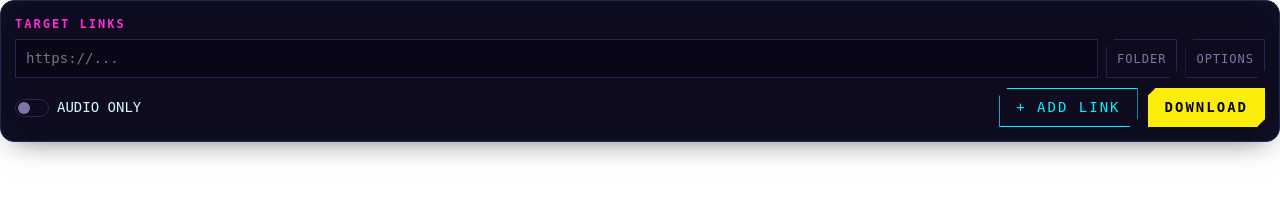
Scenario: UrlInput submit › keeps only the rejected links, with their error message, and clears the accepted ones
The image size is (1280, 224).
Click the button "+ ADD LINK" at [1068, 108], box [999,88,1138,127]
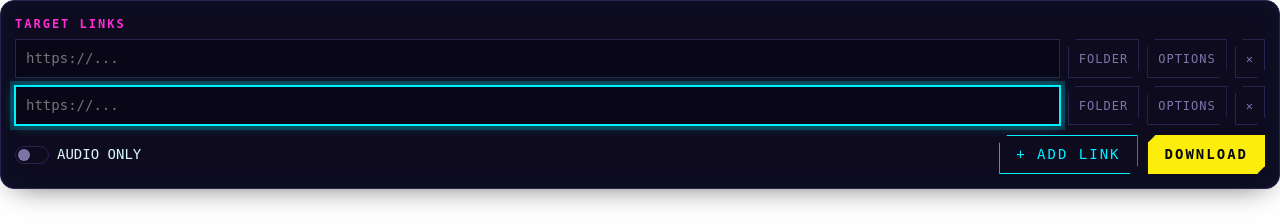
Type "https://ok.com" into the field named "Link 1" at [537, 58], box [15,39,1060,78]
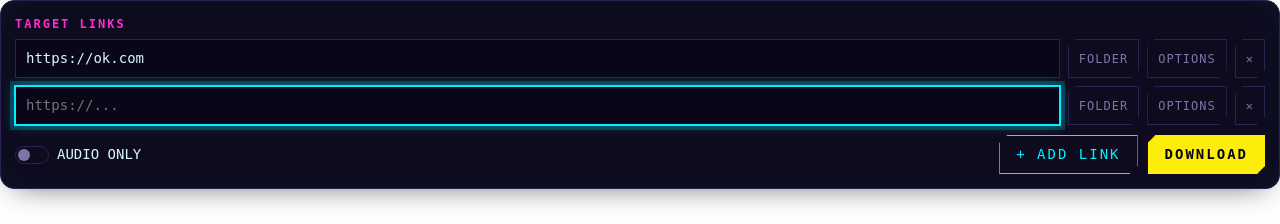
Type "not-a-url" into the field named "Link 2" at [537, 106], box [15,86,1060,125]
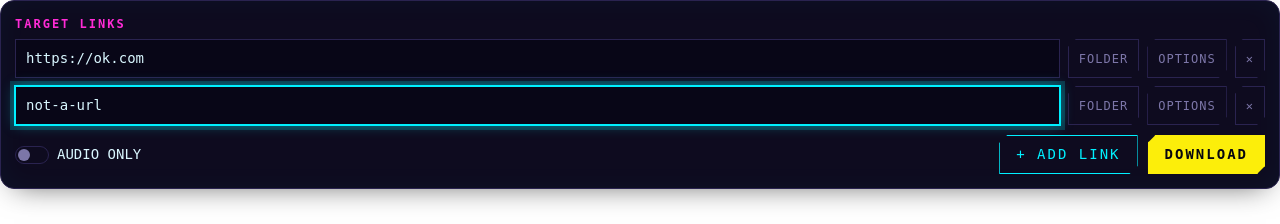
Click the button "DOWNLOAD" at [1206, 154], box [1148,135,1265,174]
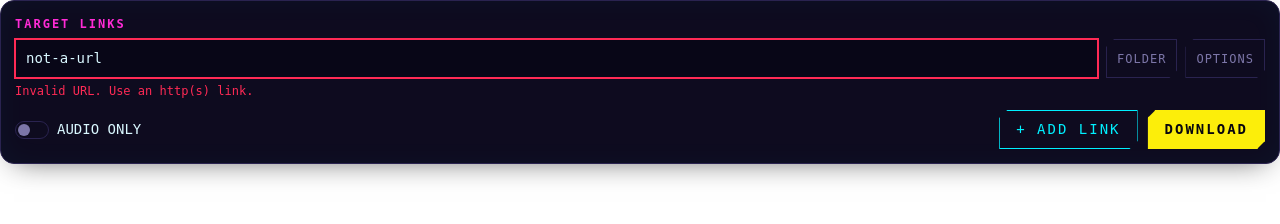
Expected: the message reads "Invalid URL. Use an http(s) link.", [15,84,253,98]
Expected: the number of fields named "Link 1" is 1, [15,39,1098,78]
